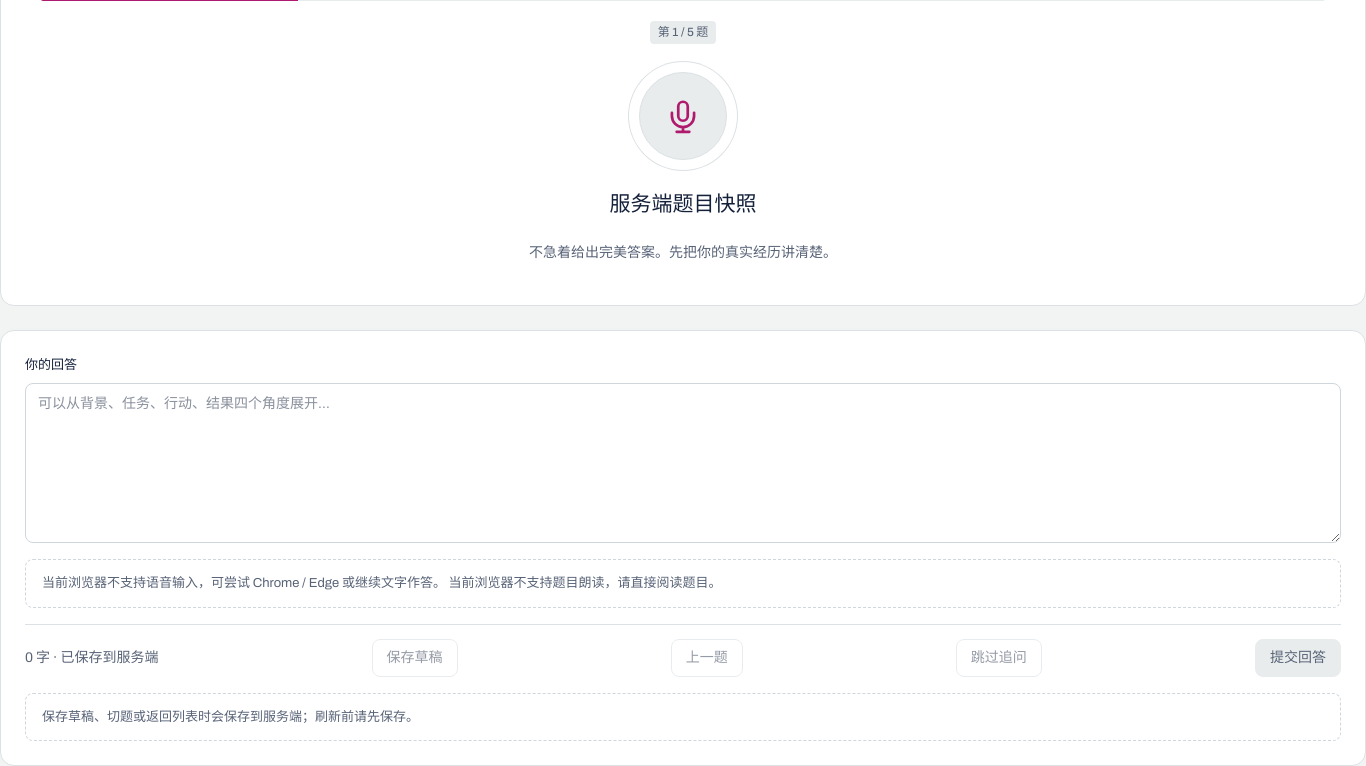
it: asks one follow-up from the saved answer, saves its answer, then advances
(page scrolled)
Step 1. Type "我负责缓存设计" into the text box labelled "你的回答" → (683, 463), box [25,383,1341,543]
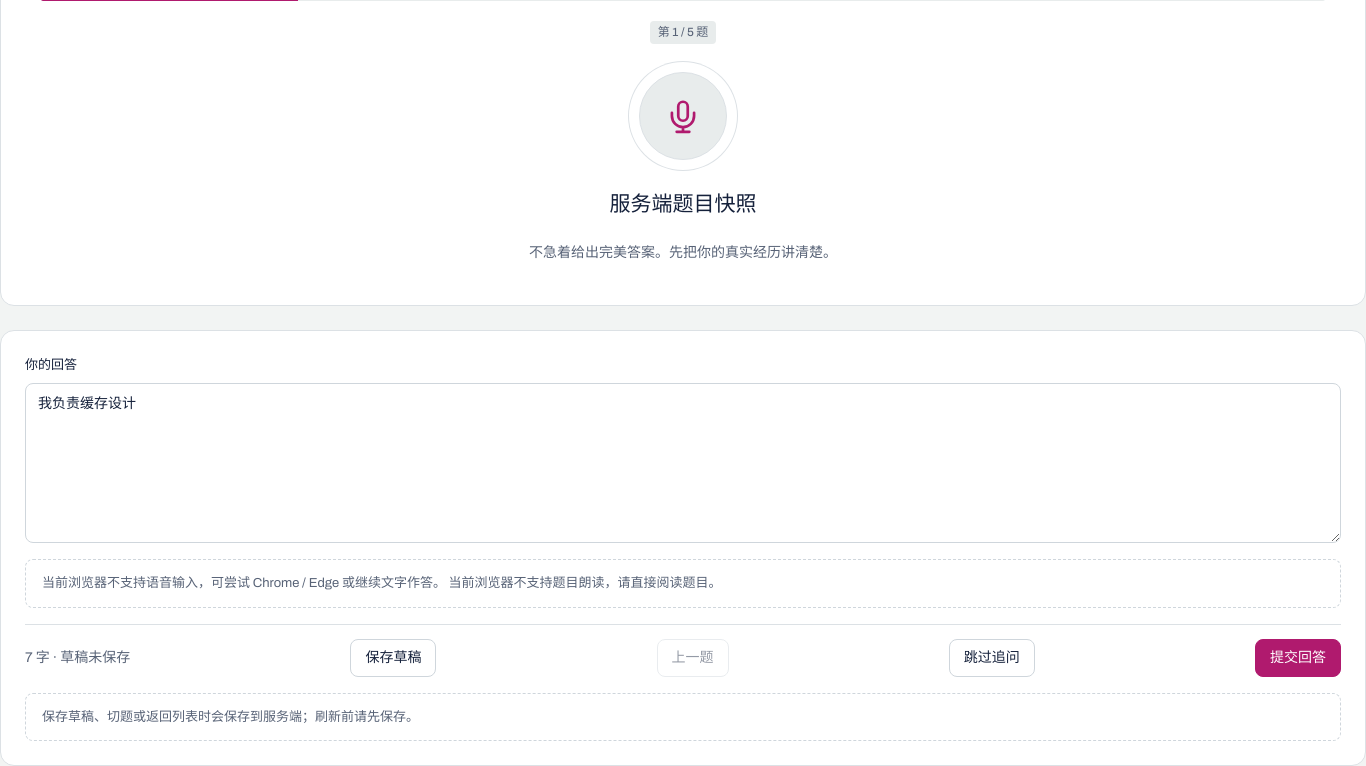
Step 2. Submit the form, box [0,330,1365,765]
(page scrolled)
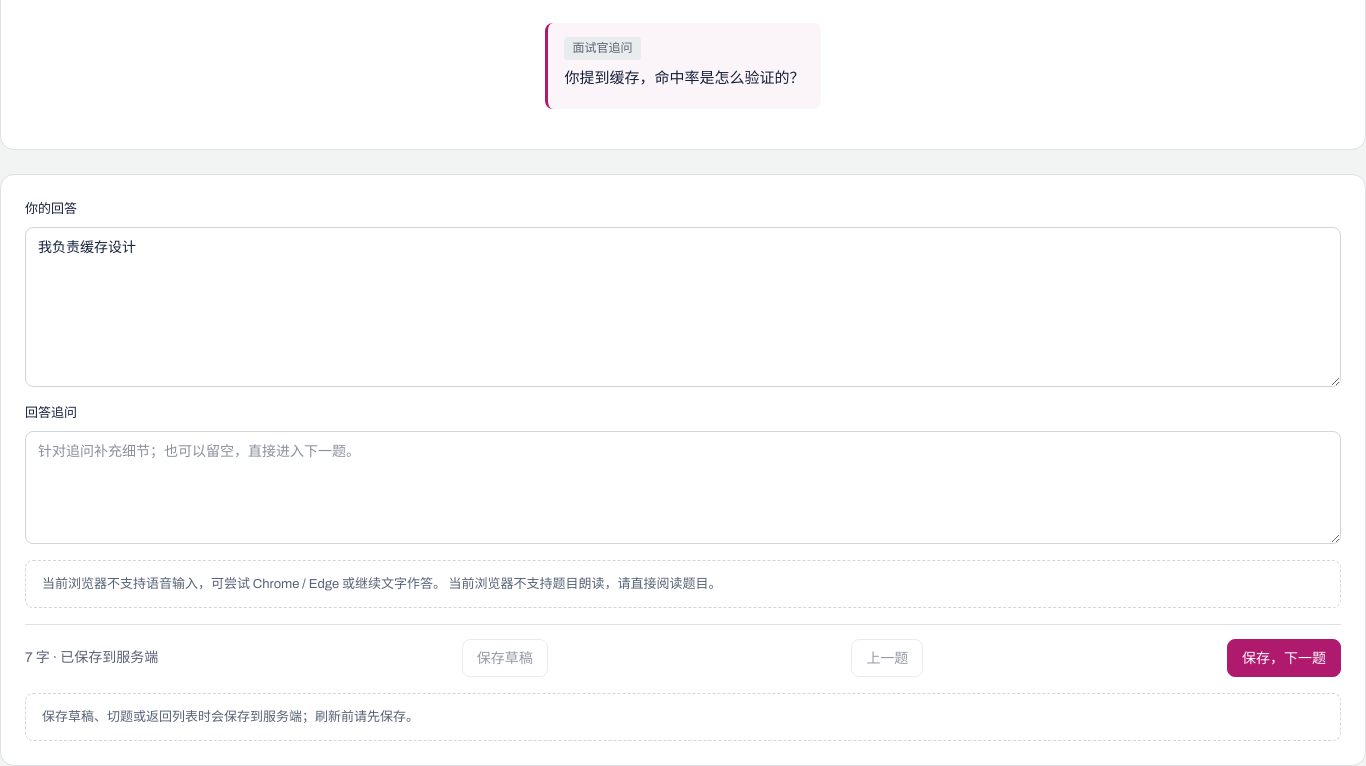
Now the text "你提到缓存，命中率是怎么验证的？" is shown, box [564,66,804,91]
Step 3. Type "用压测和监控验证" into the text box labelled "回答追问" → (683, 487), box [25,431,1341,544]
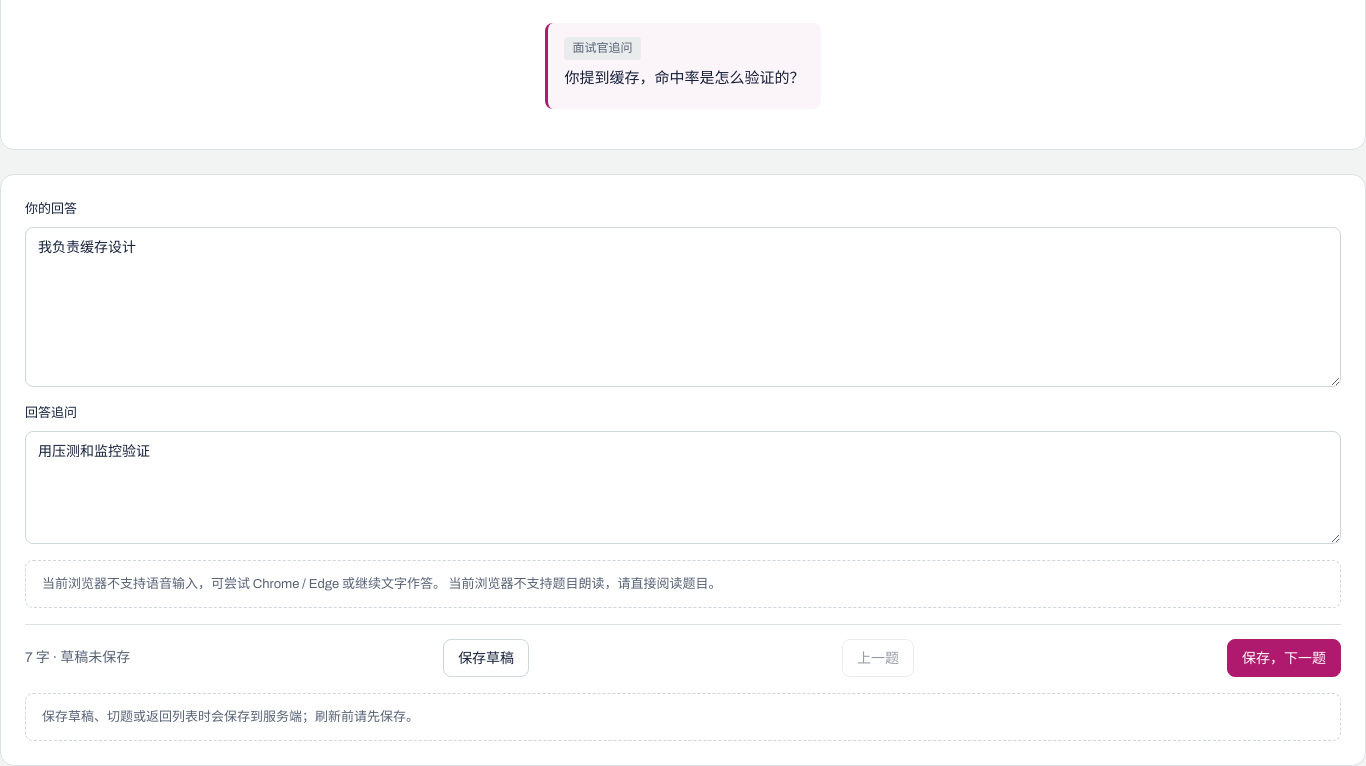
Step 4. Submit the form
(page scrolled)
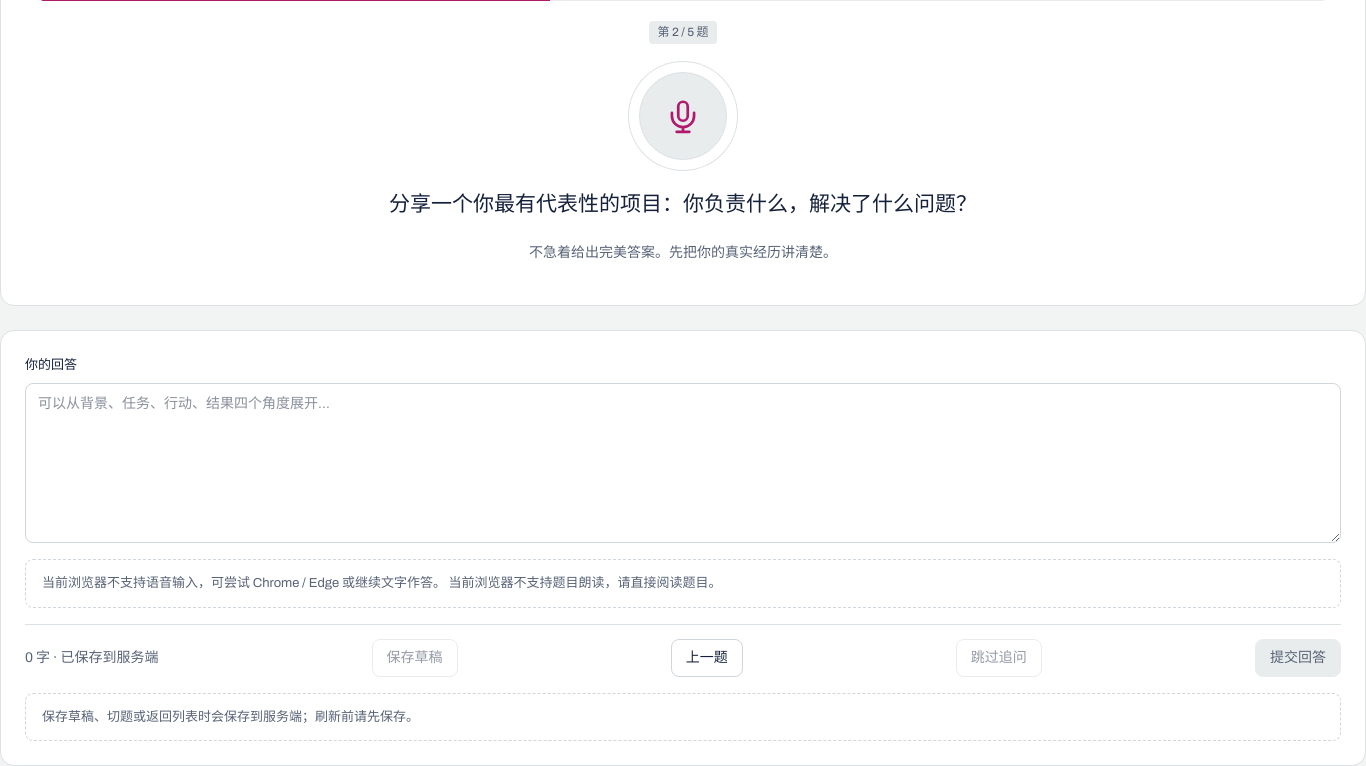
Now the number of text boxes is 1, box [25,383,1341,543]
